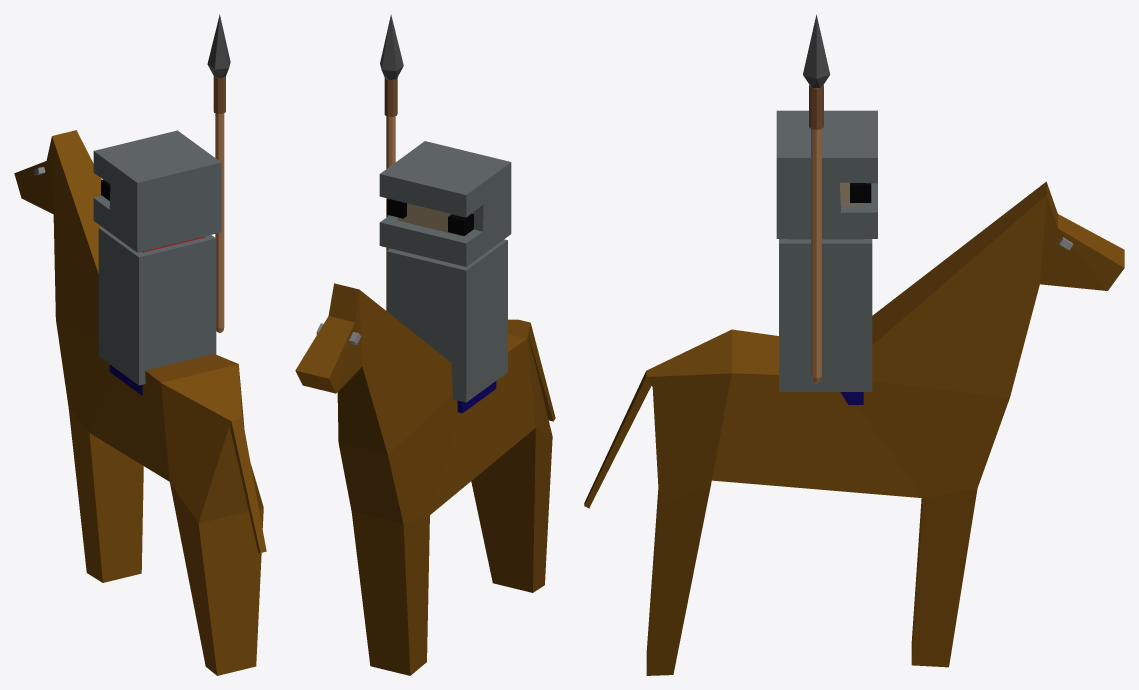
File: Medieval.fbx_Cavalry.fbx
The picture shows the model from 3 angles, left to right: view 1: azimuth 30°, elevation 25°; view 2: azimuth 150°, elevation 25°; view 3: azimuth 270°, elevation 25°; orthographic projection. The views are drawn at different scales.
Visible parts, largest first — view 1: Cavalry, Knight.001, Spear.001; view 2: Cavalry, Knight.001, Spear.001; view 3: Cavalry, Knight.001, Spear.001.
Part boxes in pixels (box(x1,y1,x2,y2)): Cavalry: box(14, 130, 266, 675); Knight.001: box(93, 130, 221, 395); Spear.001: box(207, 14, 230, 332); Cavalry: box(295, 283, 555, 675); Knight.001: box(379, 141, 511, 413); Spear.001: box(380, 14, 403, 310); Cavalry: box(584, 181, 1124, 675); Knight.001: box(776, 110, 877, 404); Spear.001: box(803, 14, 830, 383).
Bounding box in the file's own units: 79.35 × 290 × 405.
